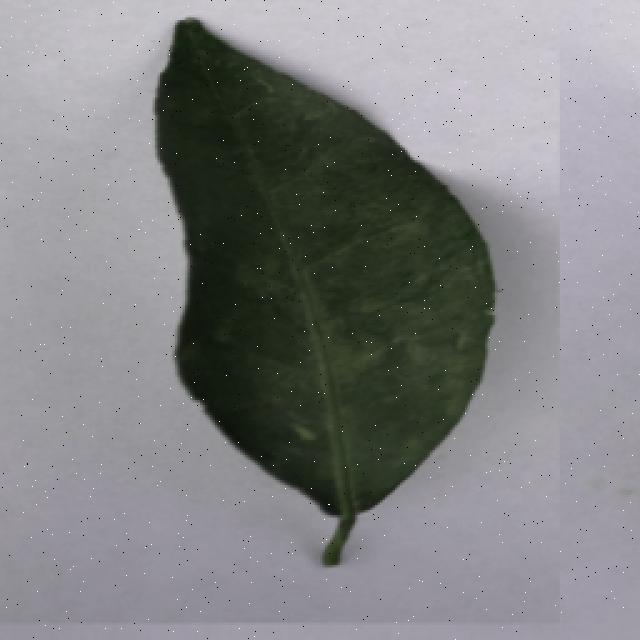healthy: (145, 11, 507, 566)
